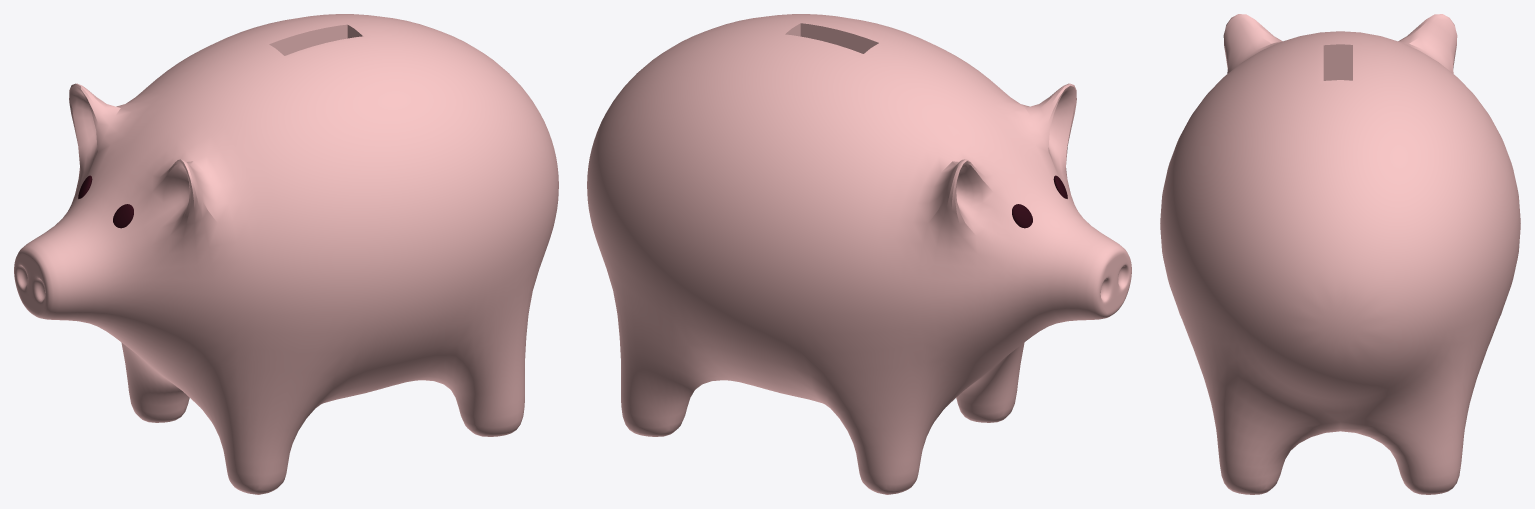
Rendered from pig.fbx.
3 renders of one model, left to right at view 1: azimuth 30°, elevation 25°; view 2: azimuth 150°, elevation 25°; view 3: azimuth 270°, elevation 25°, orthographic. The views are drawn at different scales.
Parts seen in each view (by area): view 1: marrano; view 2: marrano; view 3: marrano.
Boxes of the visible parts, x1,y1,x2,y2 form: marrano: (14, 14, 558, 494); marrano: (587, 14, 1131, 494); marrano: (1160, 14, 1520, 494).
Size of the model in its own units: 285 by 209 by 186.
